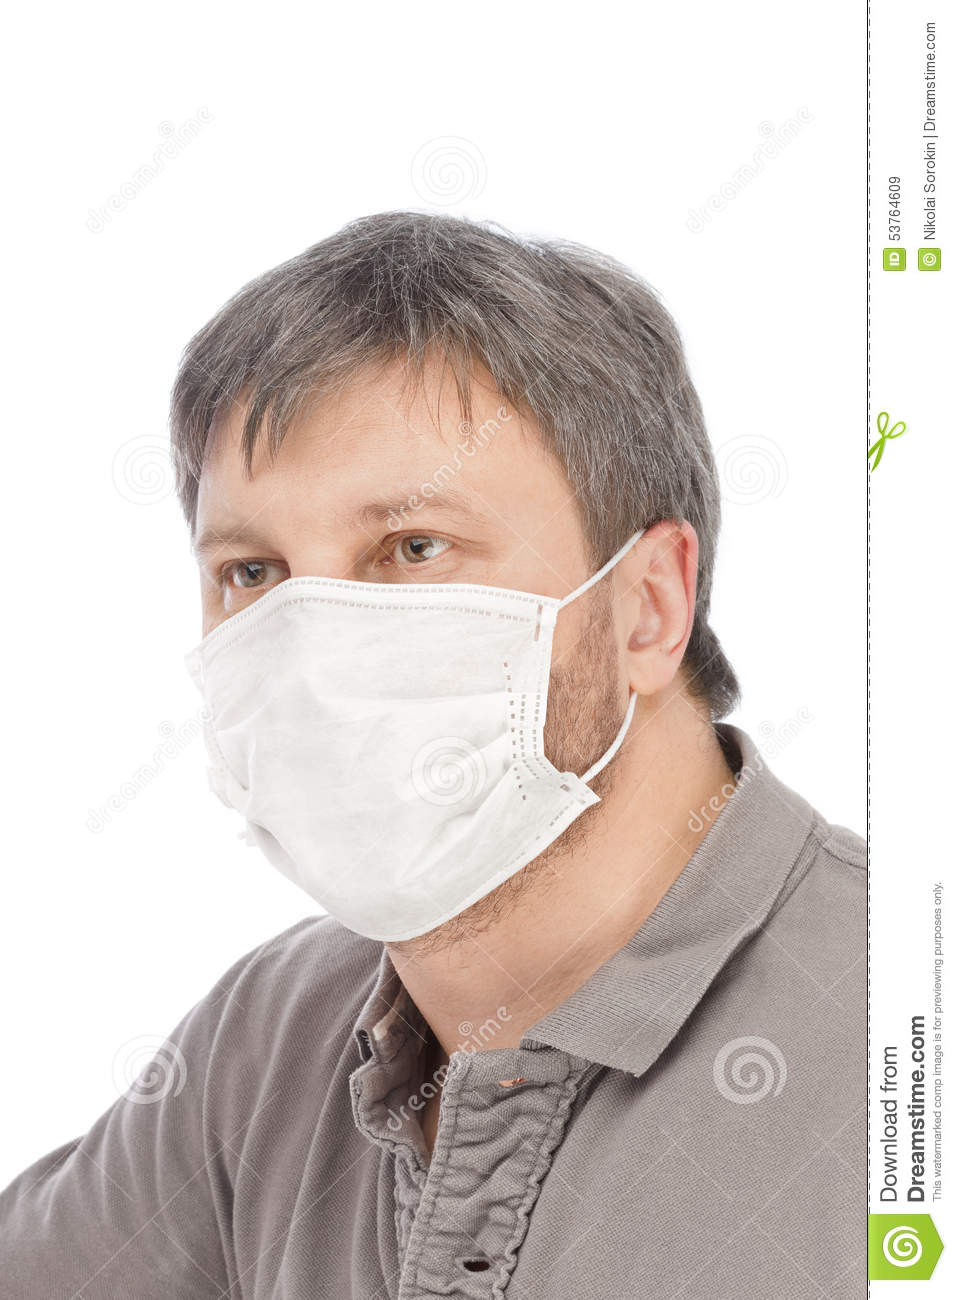mask: (191, 574, 597, 946)
